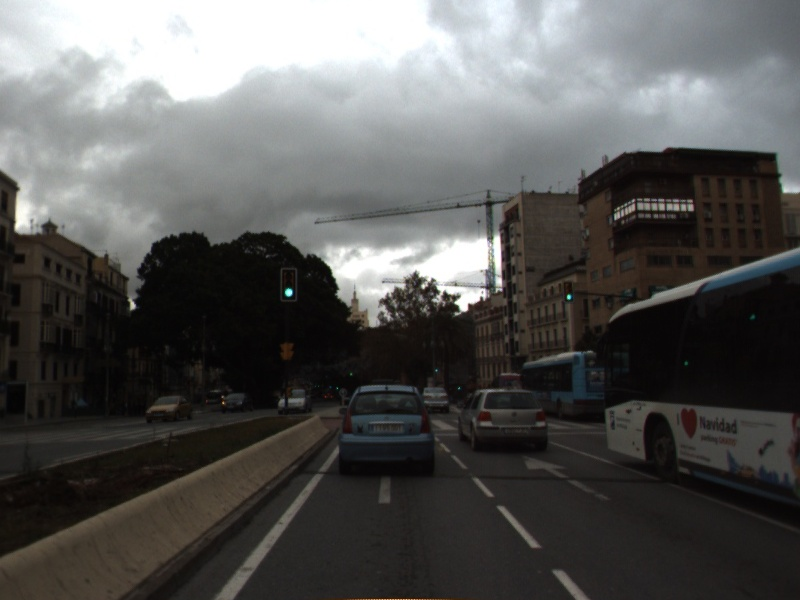STRAIGHT: (520, 453, 614, 504)
